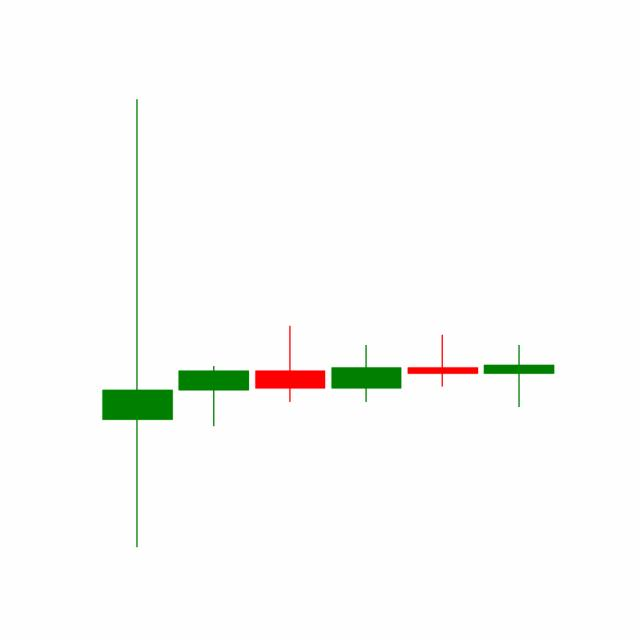Gravestone Doji: (403, 333, 481, 388)
